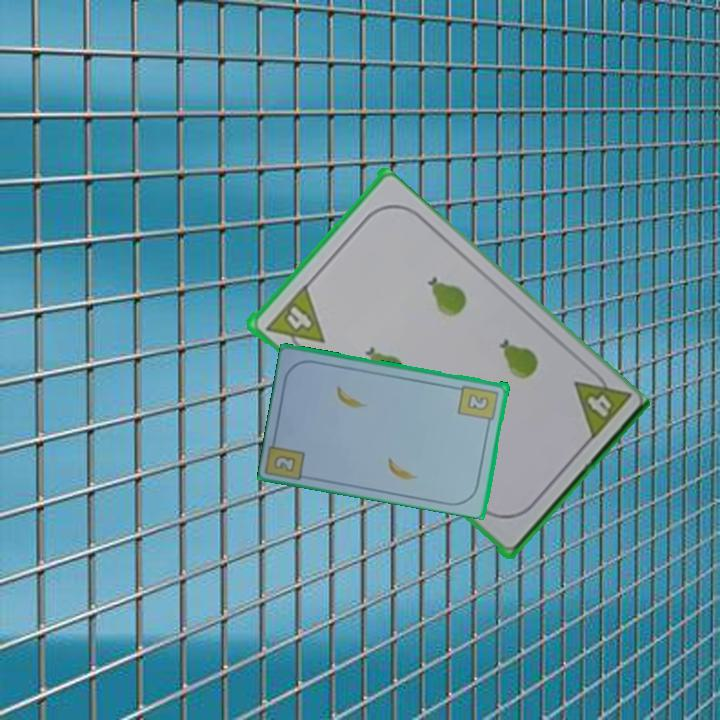2b: (455, 381, 501, 429), (270, 451, 299, 475)
4p: (569, 362, 633, 445), (261, 282, 327, 360)
